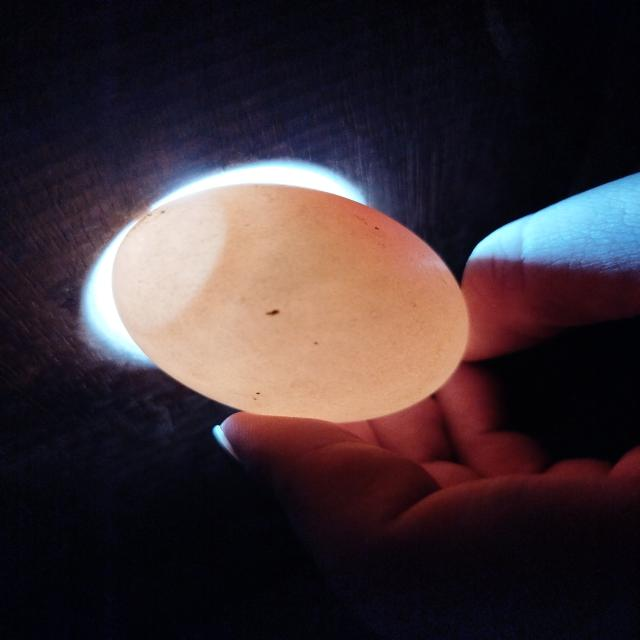Camara de Ar: (112, 192, 227, 331)
Gema Quebrada: (298, 188, 431, 259)
